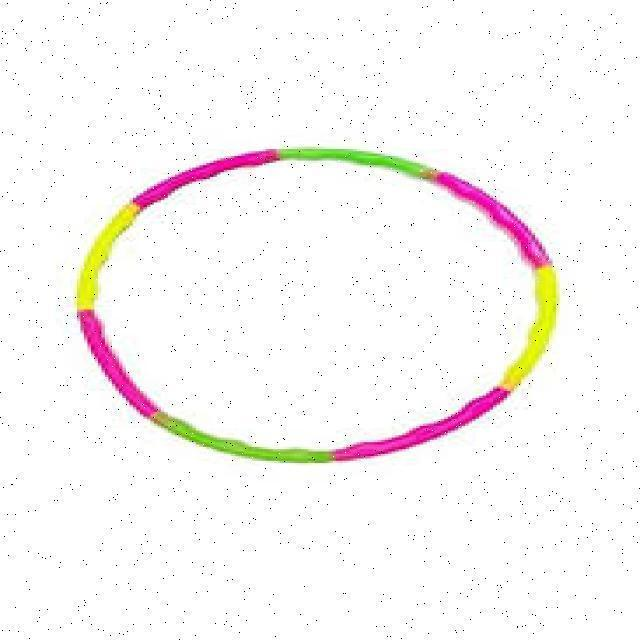Circle: (71, 141, 562, 466)
